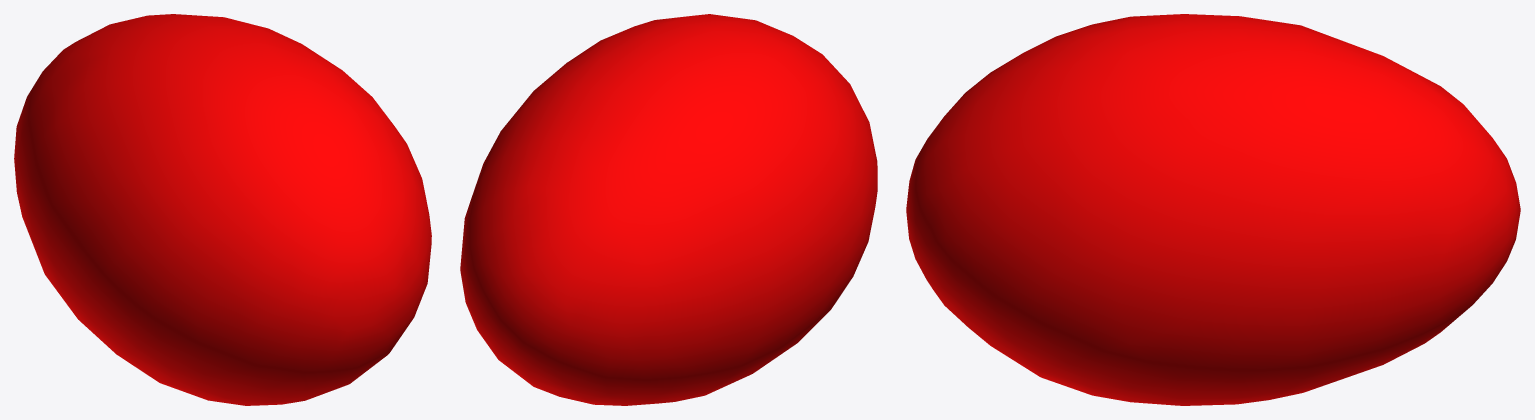
The model's file is egg.fbx.
3 views of the same model, side by side, from view 1: azimuth 30°, elevation 25°; view 2: azimuth 150°, elevation 25°; view 3: azimuth 270°, elevation 25° (orthographic). The views are drawn at different scales.
Visible parts, largest first — view 1: egg_19; view 2: egg_19; view 3: egg_19.
Part boxes in pixels (<box>): egg_19: <box>14,14,431,405</box>; egg_19: <box>460,14,877,405</box>; egg_19: <box>906,14,1520,405</box>.
Bounding box in the file's own units: 528 × 528 × 824.
